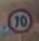limite 70: (6, 7, 32, 33)
